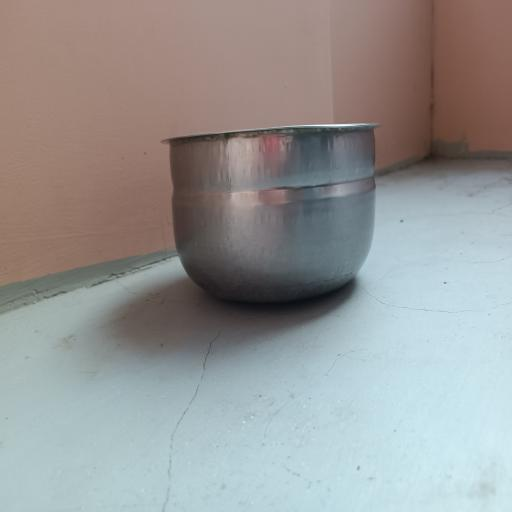vessel: (166, 124, 378, 302)
